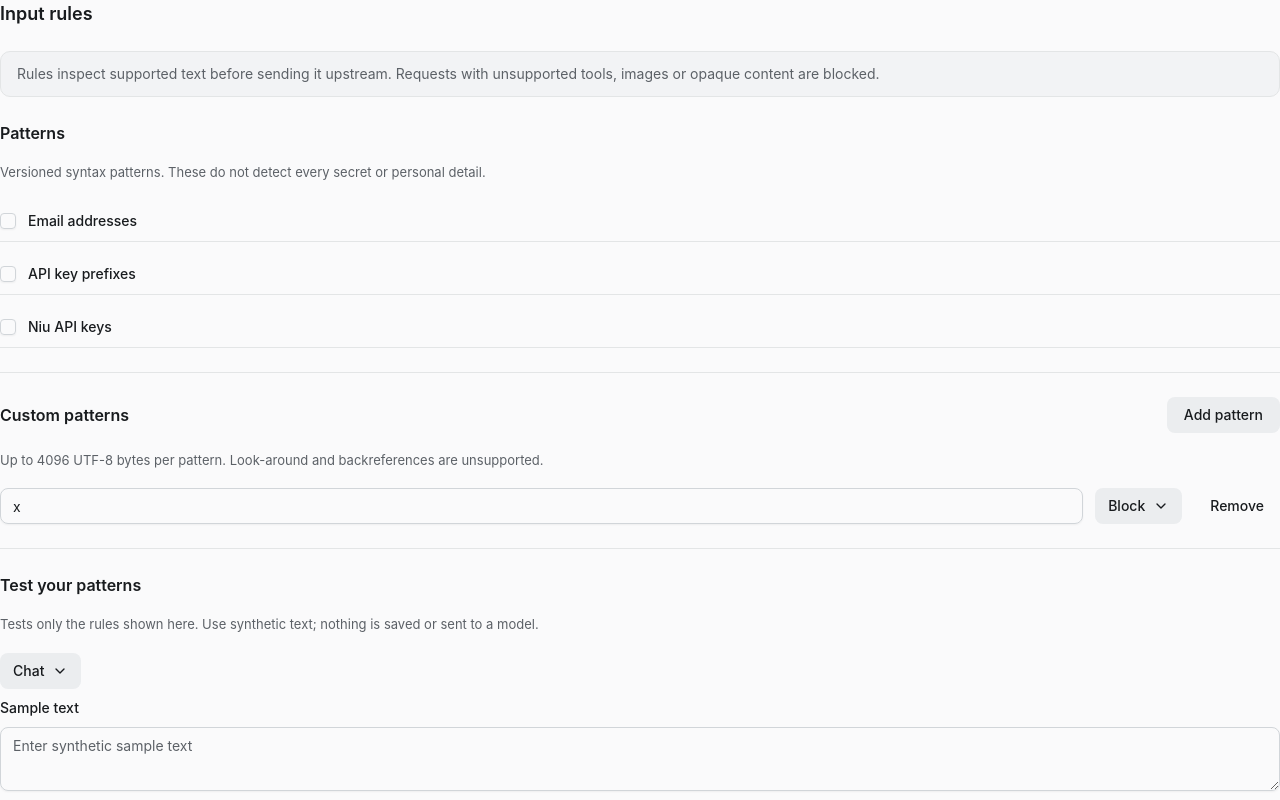
Test: never reports an empty or malformed preview response as an allowed test
Type "x" into the text box labelled "Sample text" at (640, 758), box [0, 726, 1279, 790]
(page scrolled)
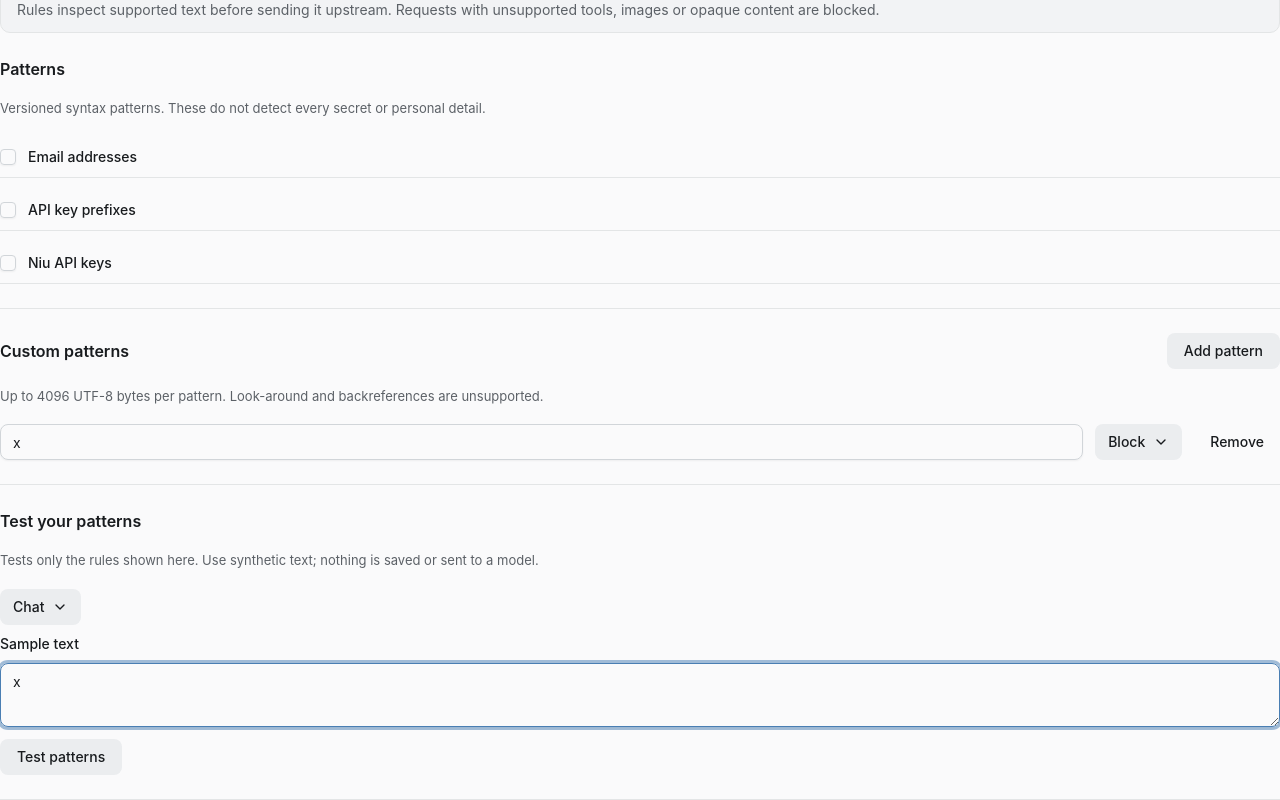
Click the button "Test patterns" at (61, 756), box [0, 738, 122, 774]
(page scrolled)
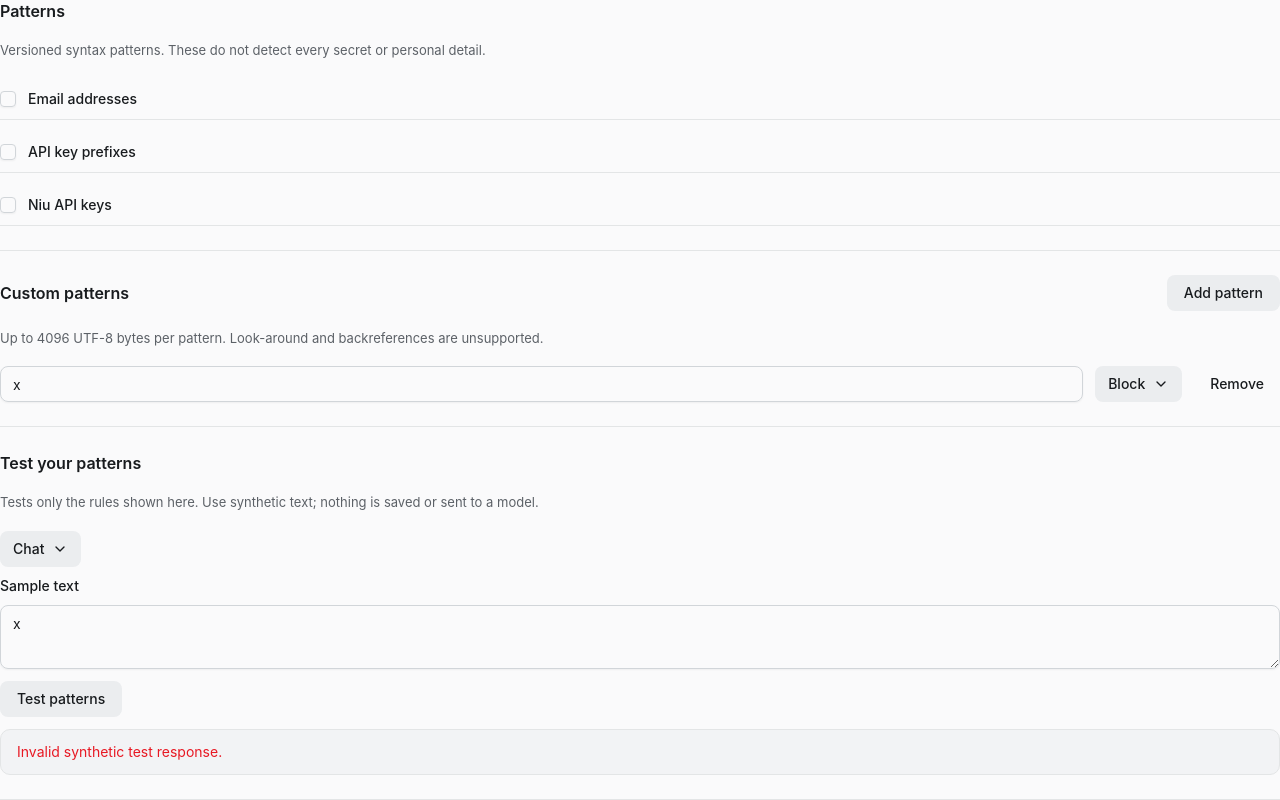
Check: the text "Invalid synthetic test response." is shown, box [17, 742, 222, 760]
